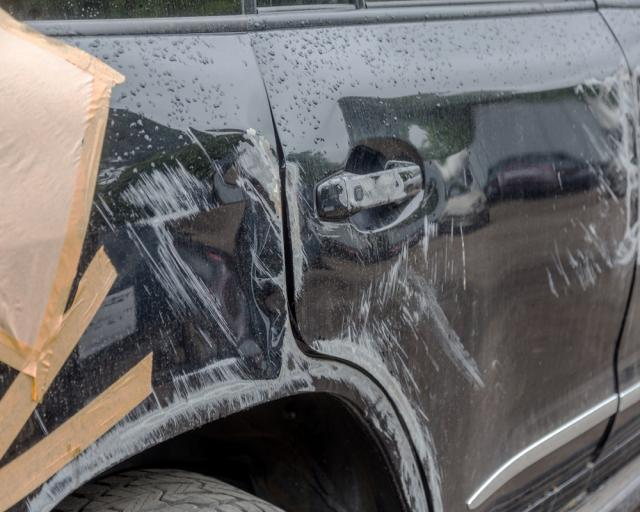dent: (162, 158, 249, 346)
scratch: (23, 128, 429, 512), (312, 209, 488, 512), (537, 57, 640, 310), (285, 160, 355, 307), (331, 169, 406, 209)
